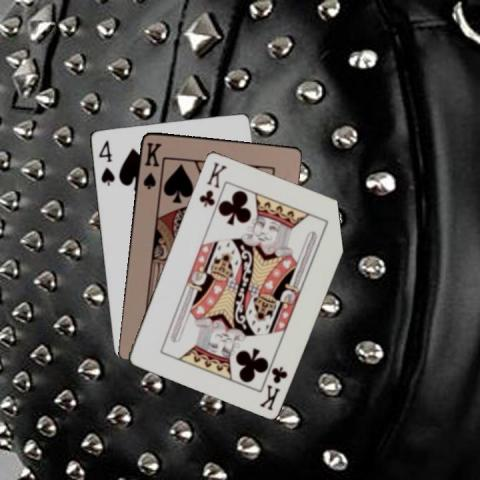4s: (95, 137, 116, 187)
Kc: (196, 159, 228, 208), (256, 363, 288, 411)
Ks: (140, 139, 163, 190)
